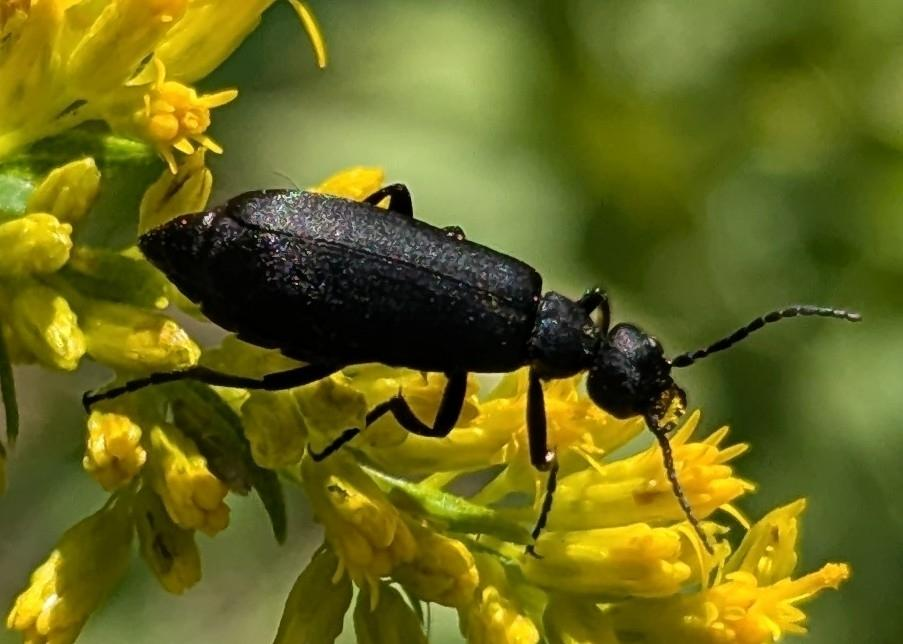blister_beetle: (40, 101, 891, 618)
